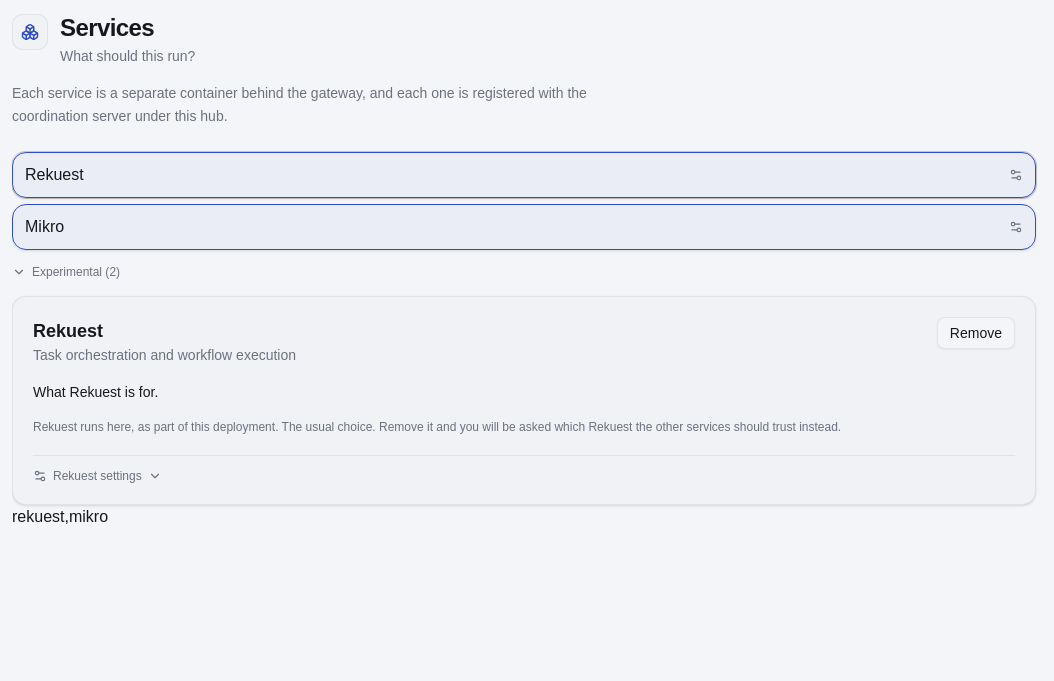
Scenario: ServicesStep › moves the panel back to a listed service when the section is closed
The width and height of the screenshot is (1054, 681).
Expected: the text "Mikro" is shown, [25,214,64,238]
Click the button "Experimental (2)" at x=66, y=272, box [12,264,120,280]
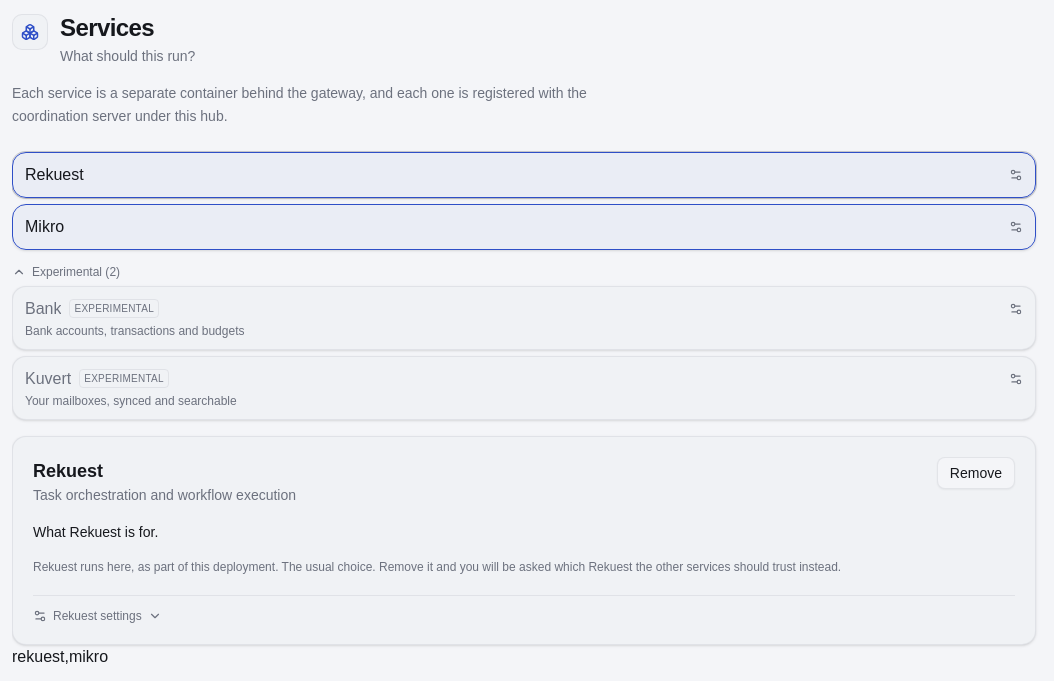
Click the text "Bank" at x=43, y=308, box [25,296,62,320]
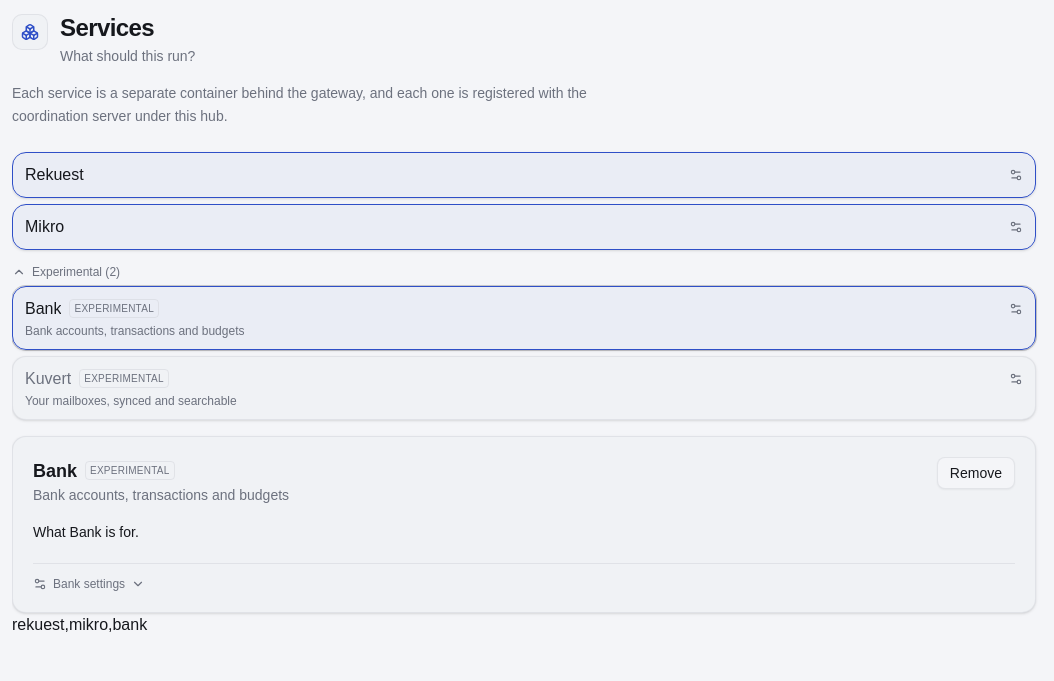
Now the text "Bank" is shown 2 times, box [25,296,62,320]; [33,456,77,484]
Click the button "Experimental (2)" at x=66, y=272, box [12,264,120,280]
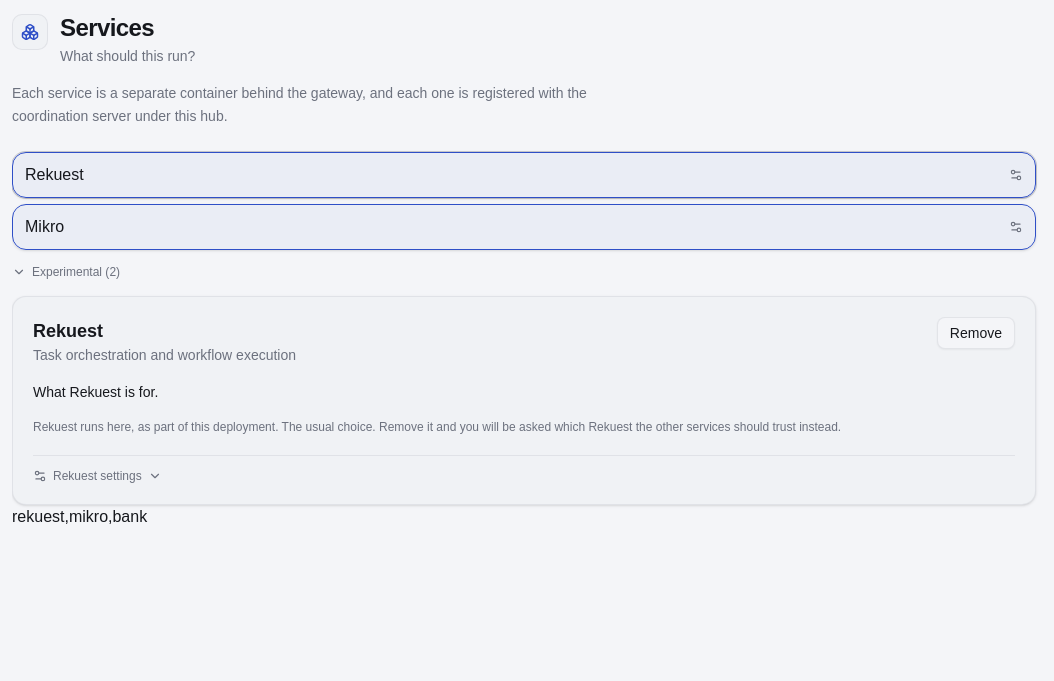
Now the text "What Rekuest is for." is shown, box [33,384,158,400]
